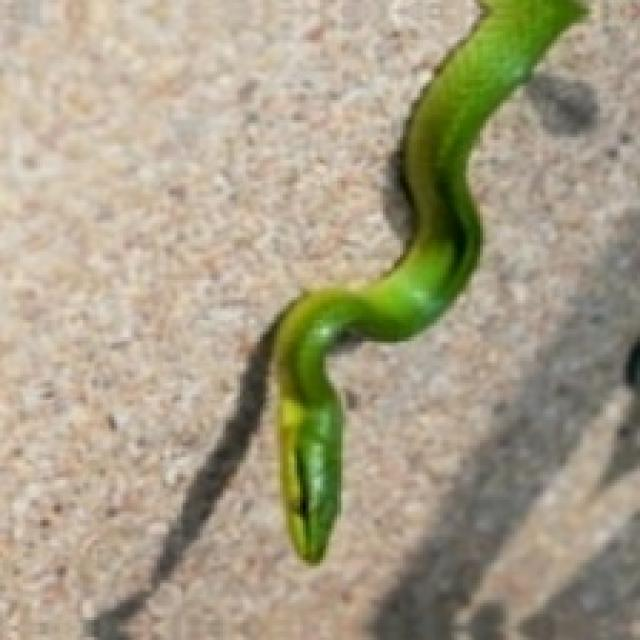red-tailed green ratsnake: (274, 0, 583, 560)
